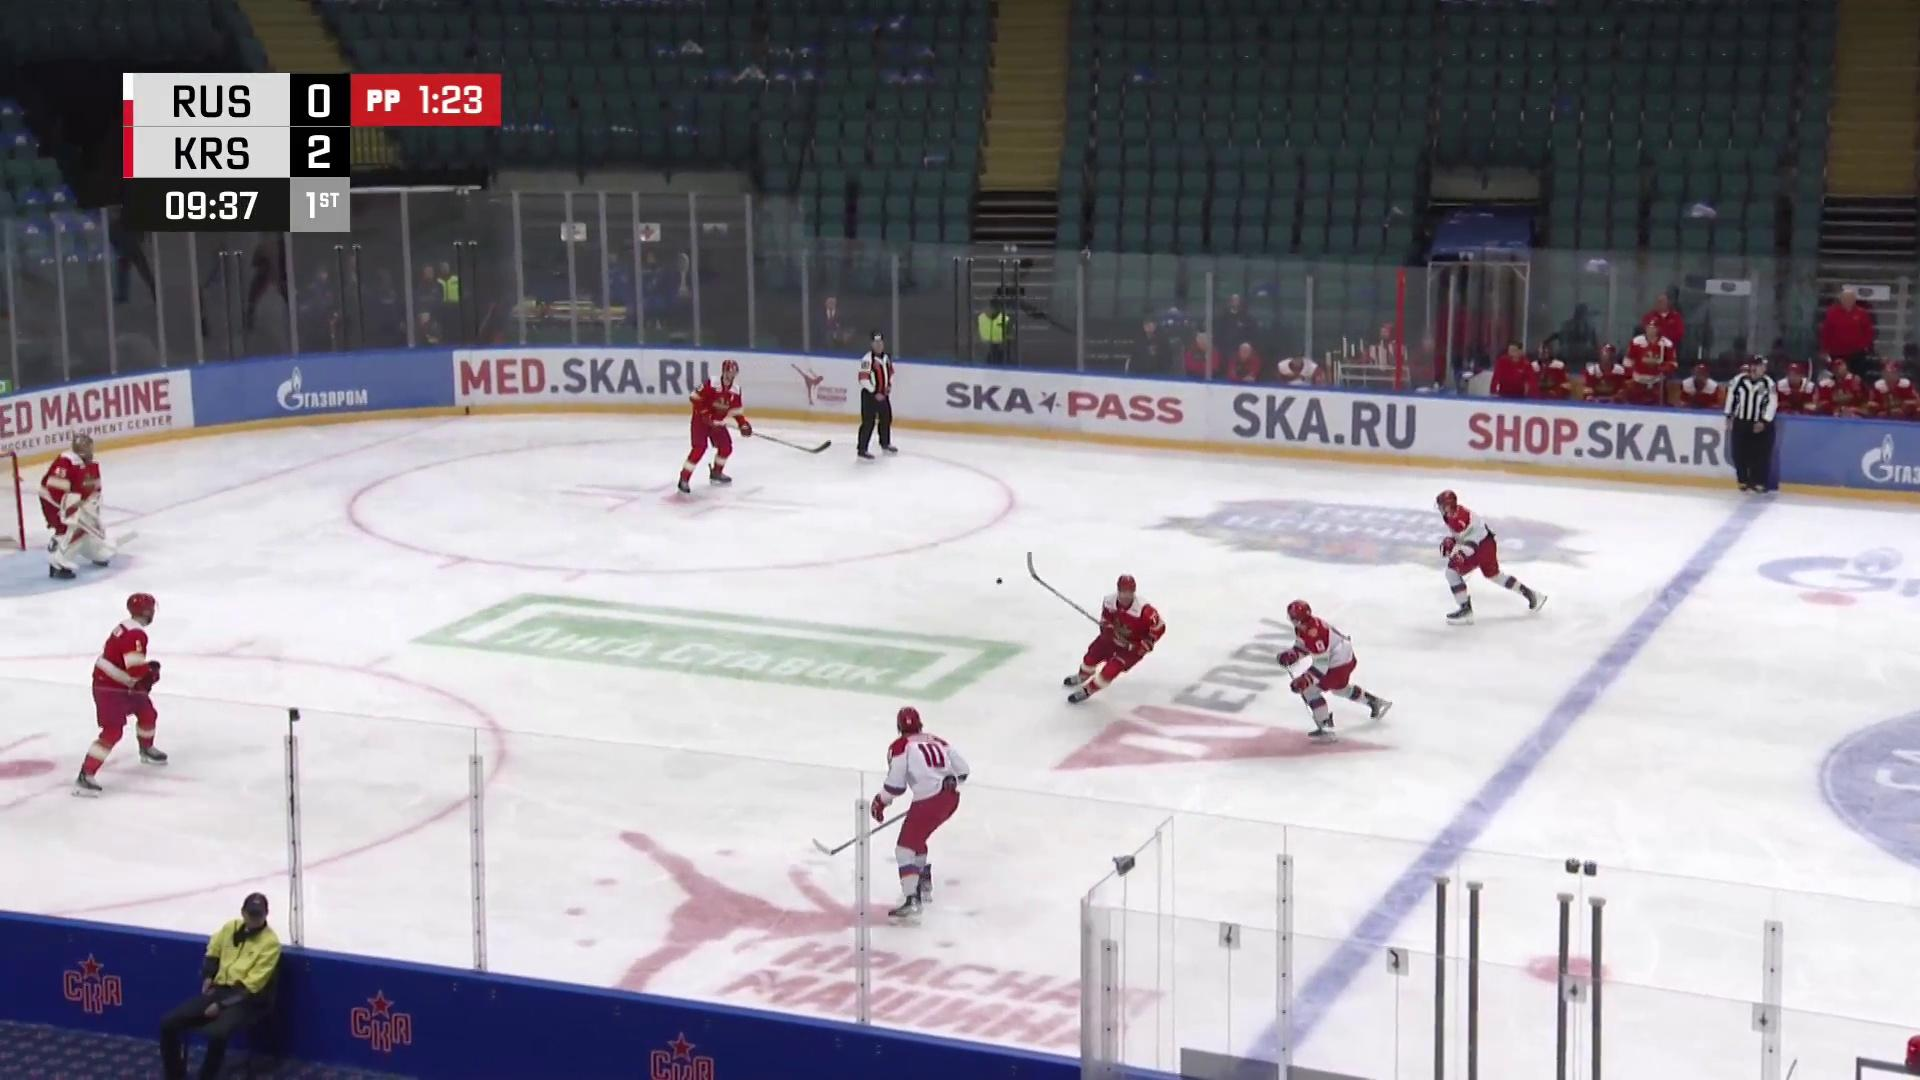ball: (993, 578, 1005, 587)
